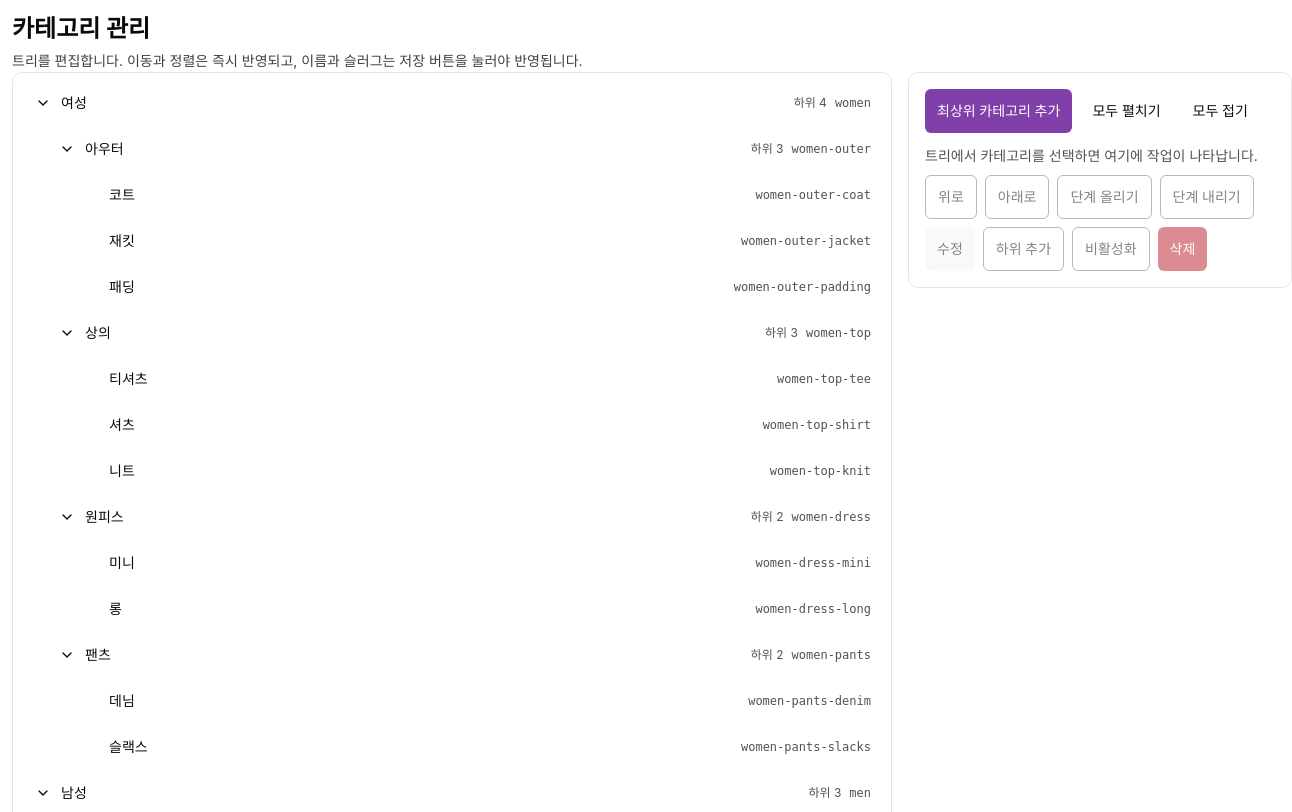
Test case: the category console — 삭제 (F9) › is a live button for the role that holds catalog.delete
This screenshot has width=1292, height=812.
Click the list item "코트 women-outer-coat" at (813, 195), box [109,186,871,203]
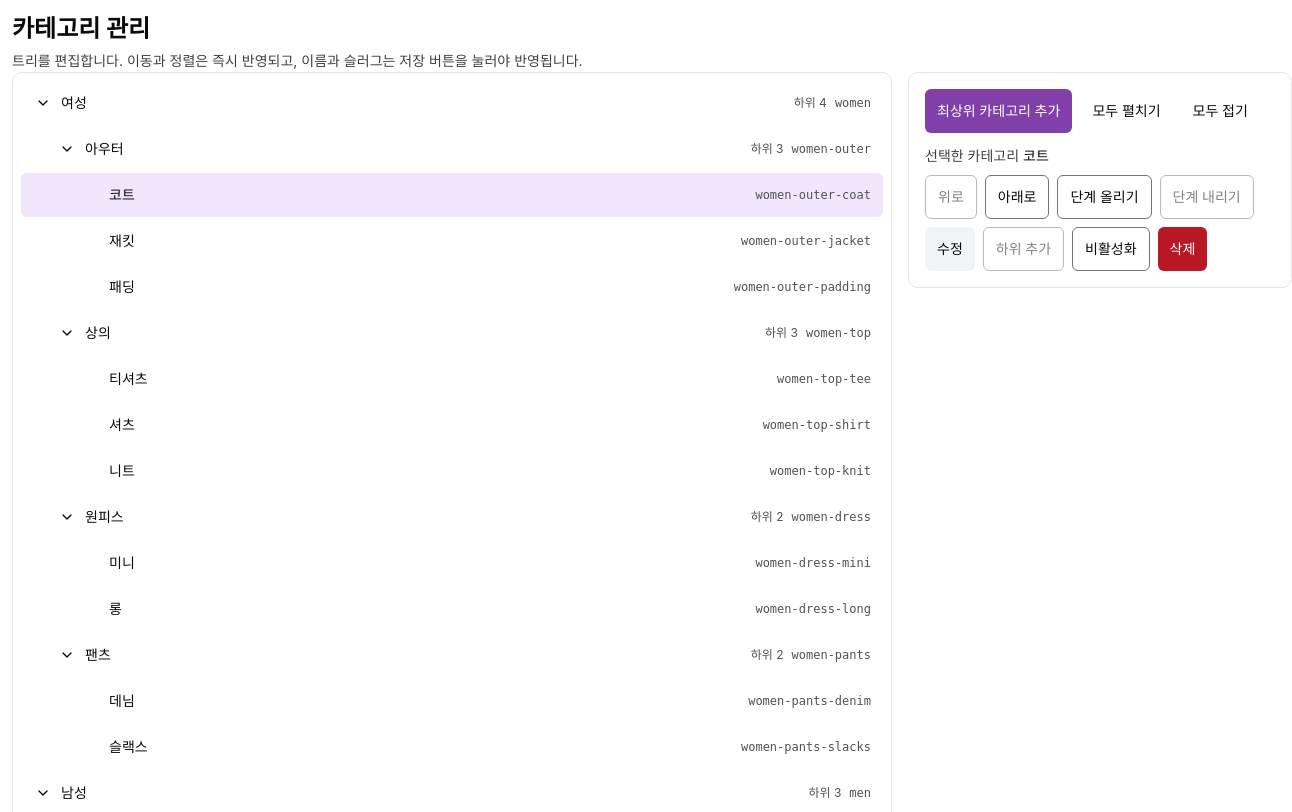
Result: the button "삭제" is enabled at [1158,227,1207,271]
